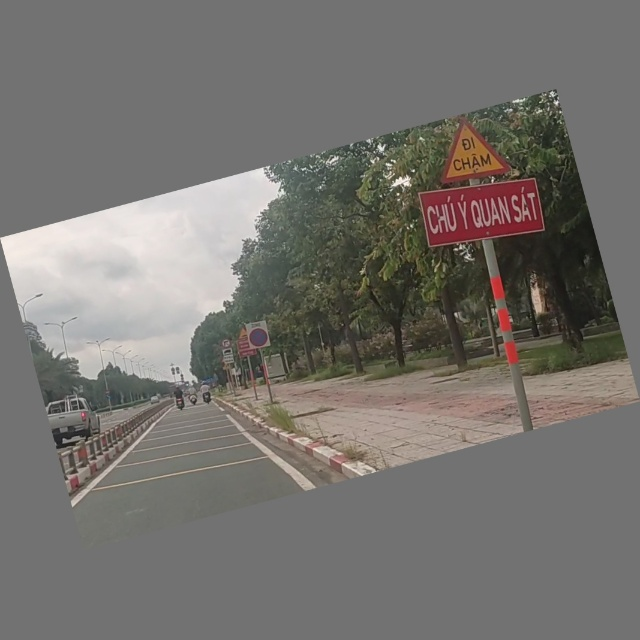P.123b: (219, 338, 233, 350)
P.130: (243, 319, 273, 352)
S.505a*Xe tai: (221, 348, 236, 366)
W.245a: (425, 110, 517, 194)
